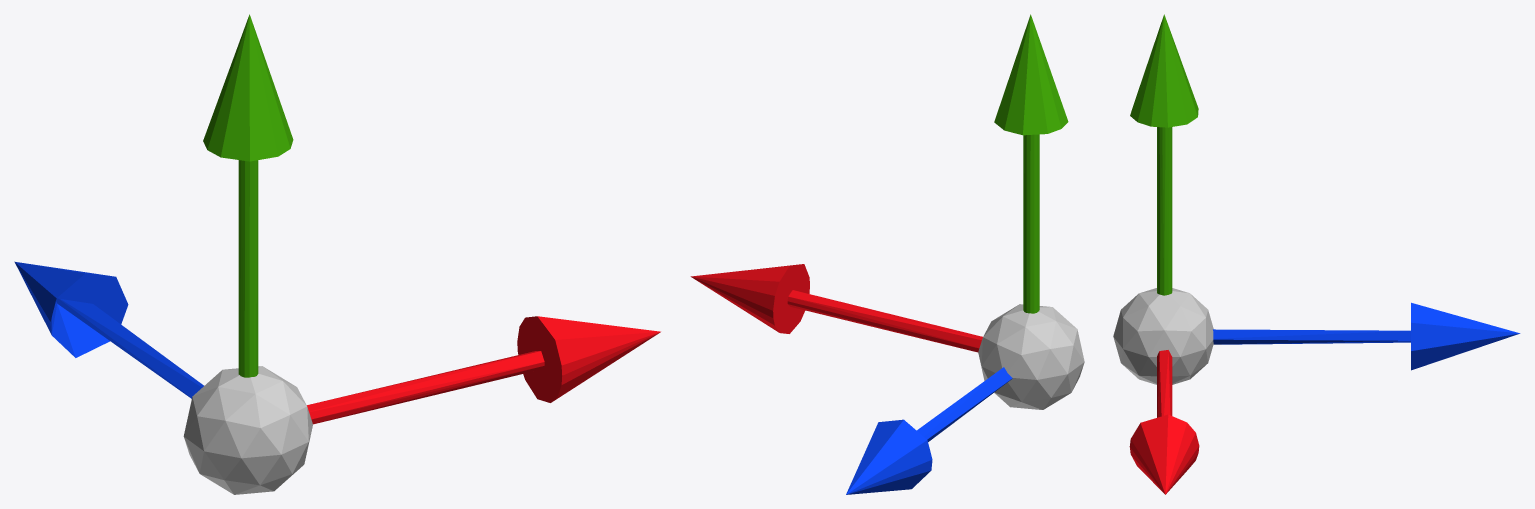
The model's file is position_gizmo.obj.
The picture shows the model from 3 angles, left to right: view 1: azimuth 30°, elevation 25°; view 2: azimuth 150°, elevation 25°; view 3: azimuth 270°, elevation 25°; orthographic projection. The views are drawn at different scales.
Parts seen in each view (by area): view 1: PositionGizmo_Center.001; view 2: PositionGizmo_Center.001; view 3: PositionGizmo_Center.001.
Boxes of the visible parts, left/top/right/bottom form: PositionGizmo_Center.001: left=14, top=14, right=660, bottom=494; PositionGizmo_Center.001: left=690, top=14, right=1084, bottom=494; PositionGizmo_Center.001: left=1113, top=14, right=1520, bottom=494.
Bounding box in the file's own units: 1.91 × 1.86 × 1.86.
